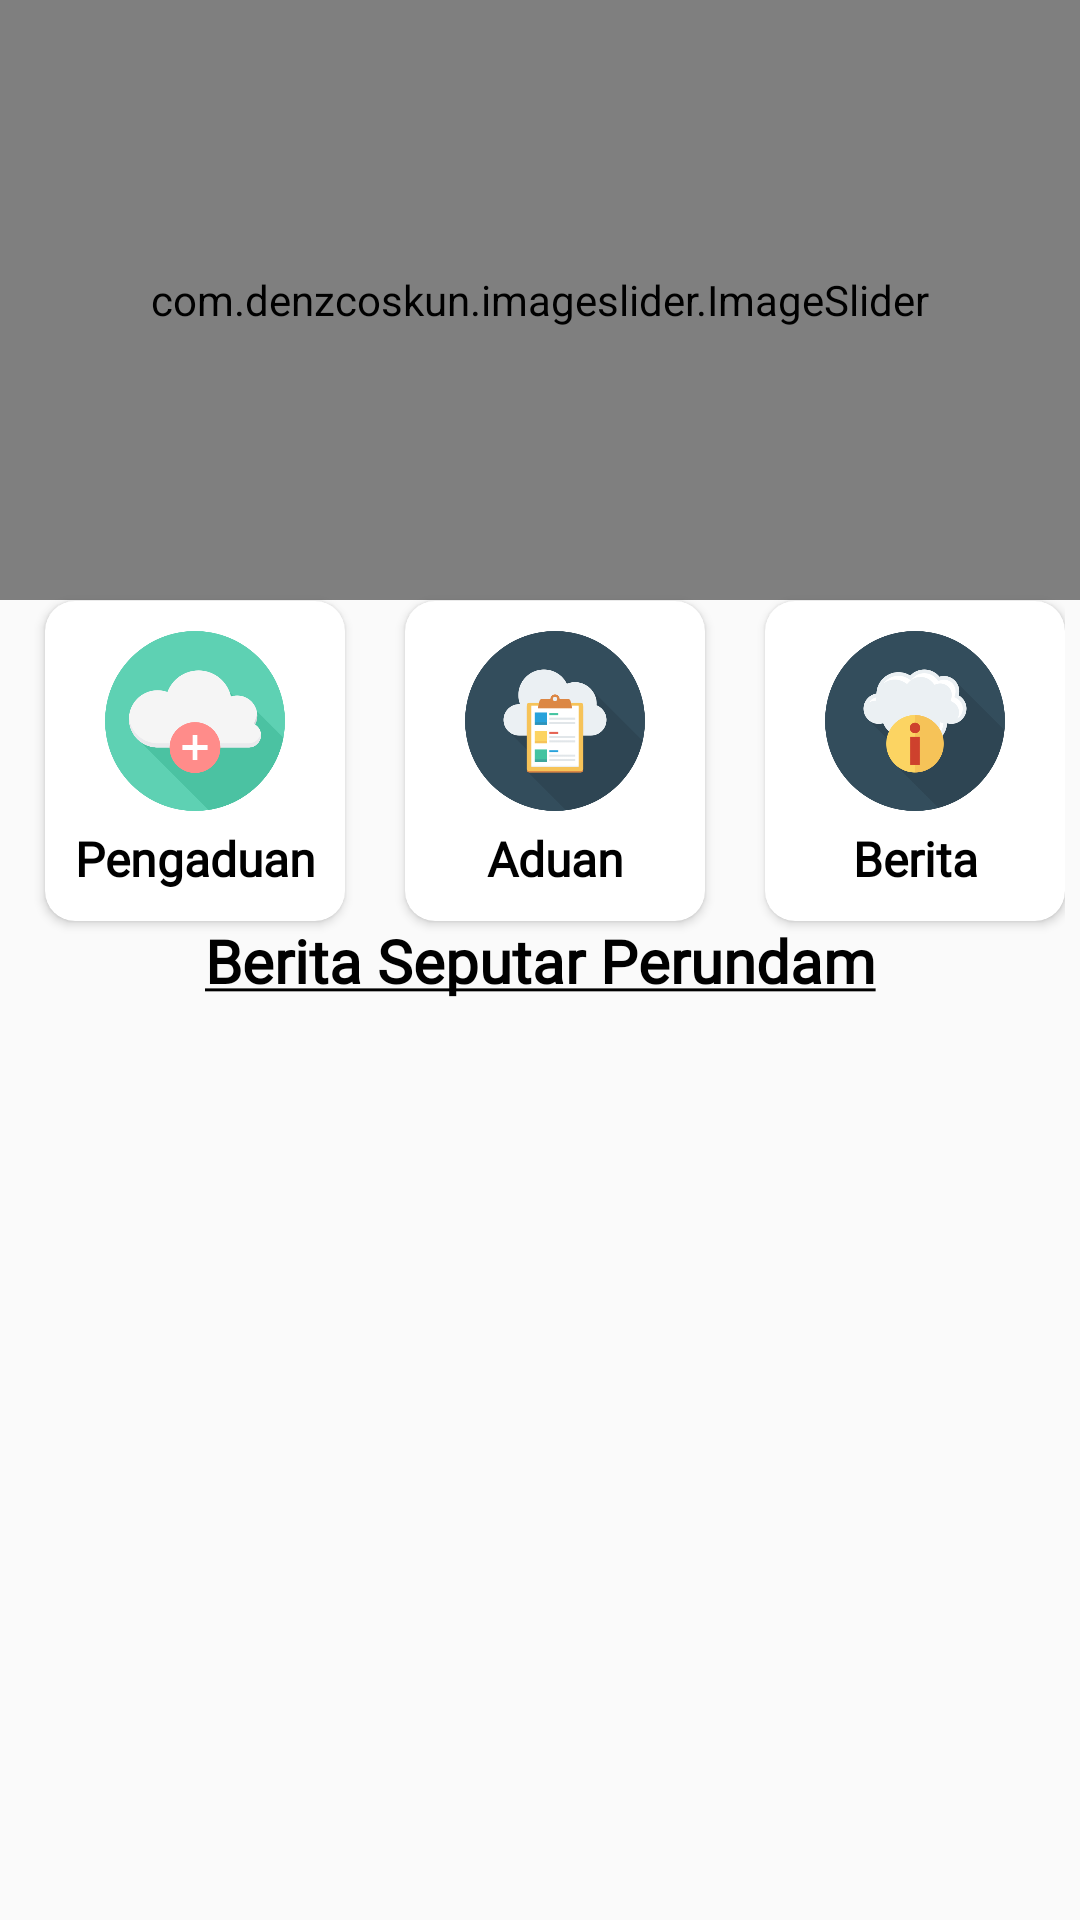

Where to tap for icons on this 1080w x 1920h app screen, as (x=x, y=y):
checklist: (x=555, y=721)
info: (x=915, y=721)
plus: (x=195, y=721)
